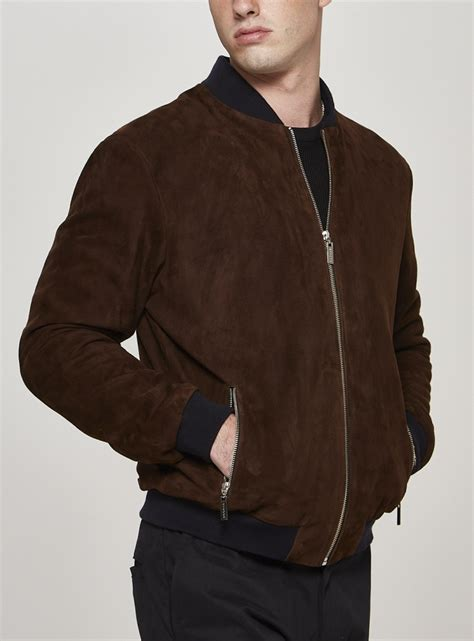gamuza: (18, 78, 436, 561)
